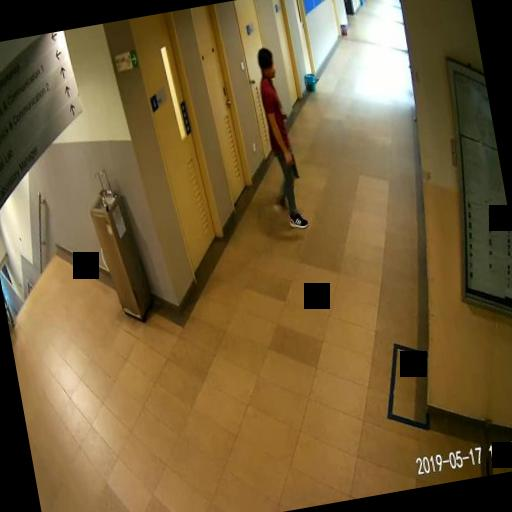Handgun: (282, 150, 297, 178)
